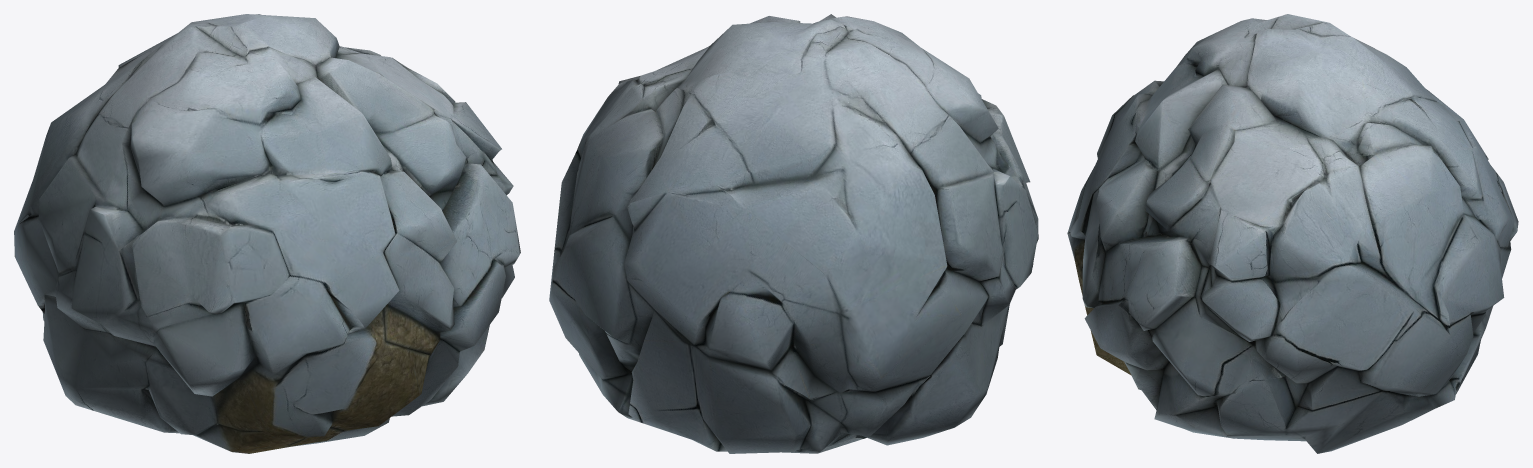
File: prop-boulder.glb
3 renders of one model, left to right at view 1: azimuth 30°, elevation 25°; view 2: azimuth 150°, elevation 25°; view 3: azimuth 270°, elevation 25°, orthographic. The views are drawn at different scales.
Bounding box in the file's own units: 2 × 1.76 × 1.96.
1 material, 1 textured.
